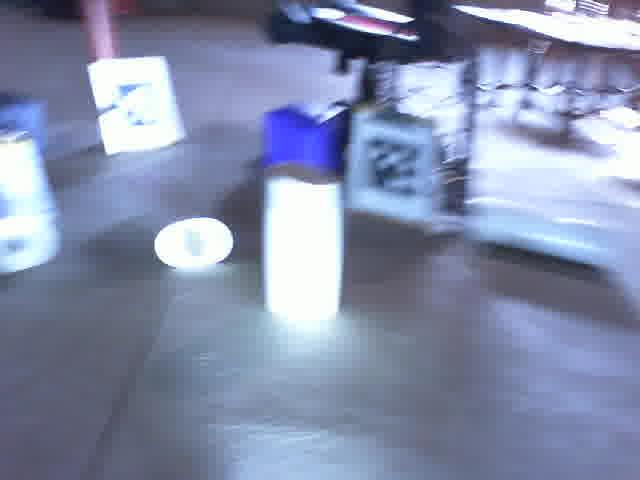coral: (263, 163, 343, 325)
